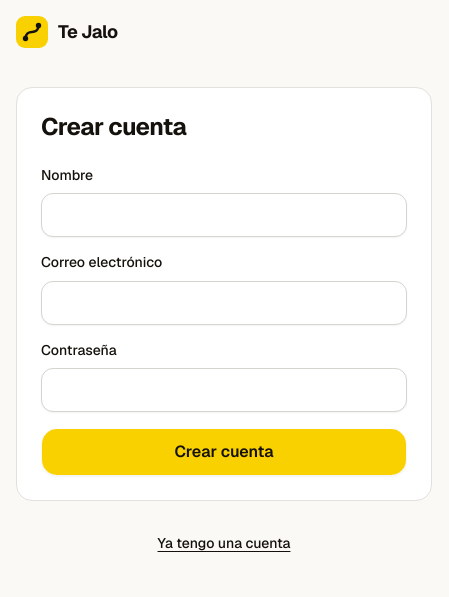
Test case: sign-up page › shows a Spanish error next to the email field and does not create the account
Type "Ana Quispe" into the field labelled "Nombre" at (224, 215), box [41, 193, 407, 237]
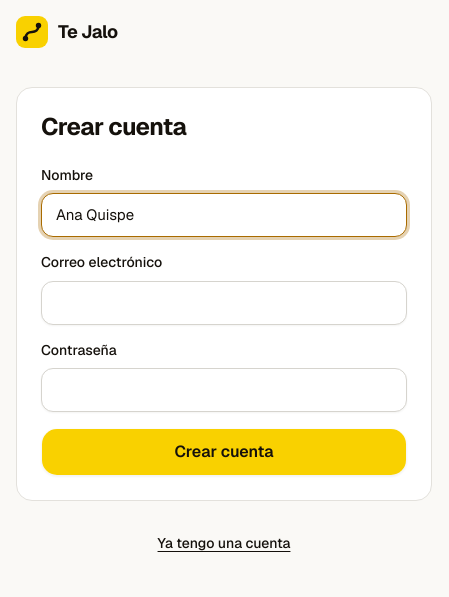
Type "ana@" into the field labelled "Correo electrónico" at (224, 302), box [41, 280, 407, 324]
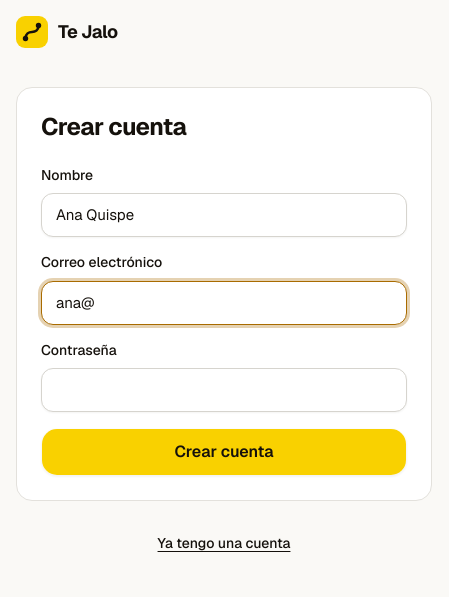
Type "12345678" into the password field labelled "Contraseña" at (224, 390), box [41, 368, 407, 412]
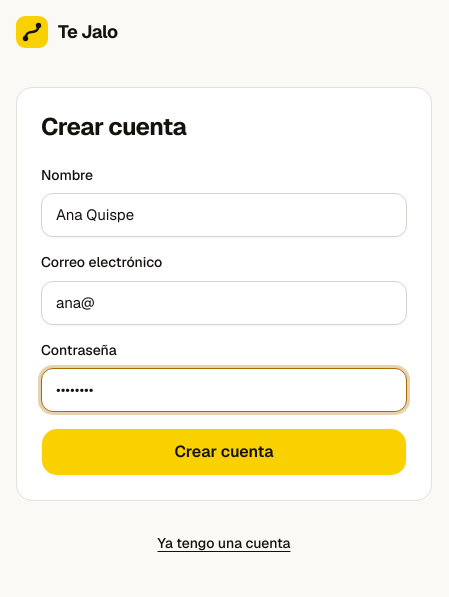
Click the button "Crear cuenta" at (224, 452), box [41, 428, 407, 476]
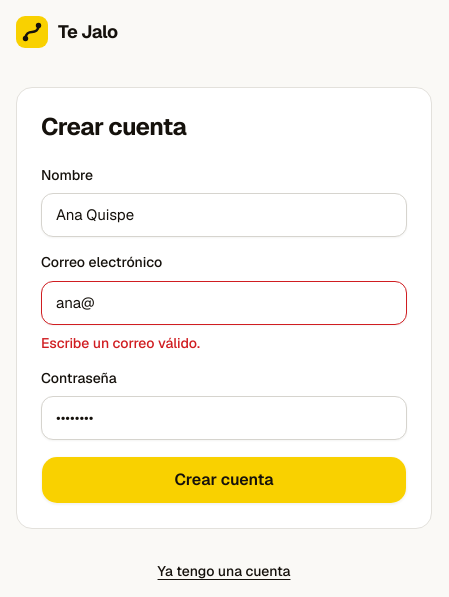
Result: the text "Escribe un correo válido." is shown at [41, 334, 200, 352]
